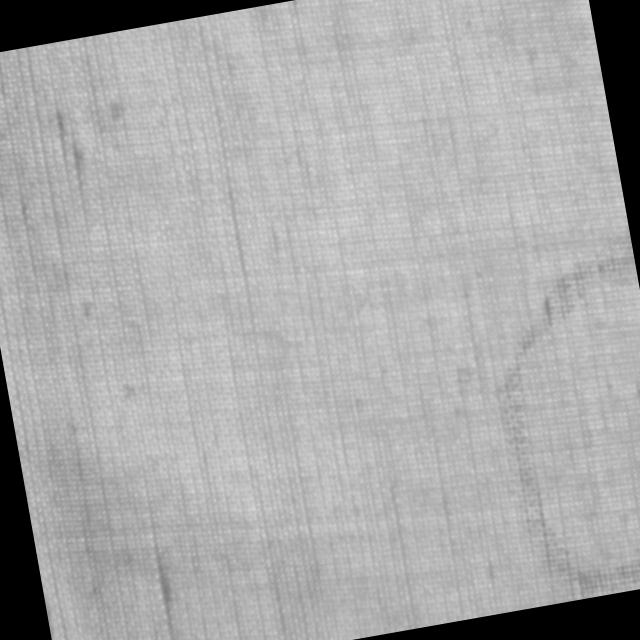oil spot: (470, 247, 640, 606)
